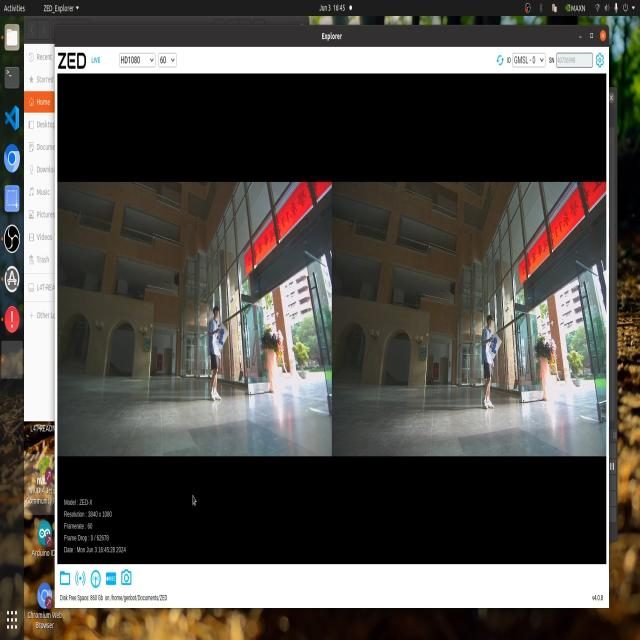blue: (210, 328, 231, 353), (482, 334, 502, 354)
